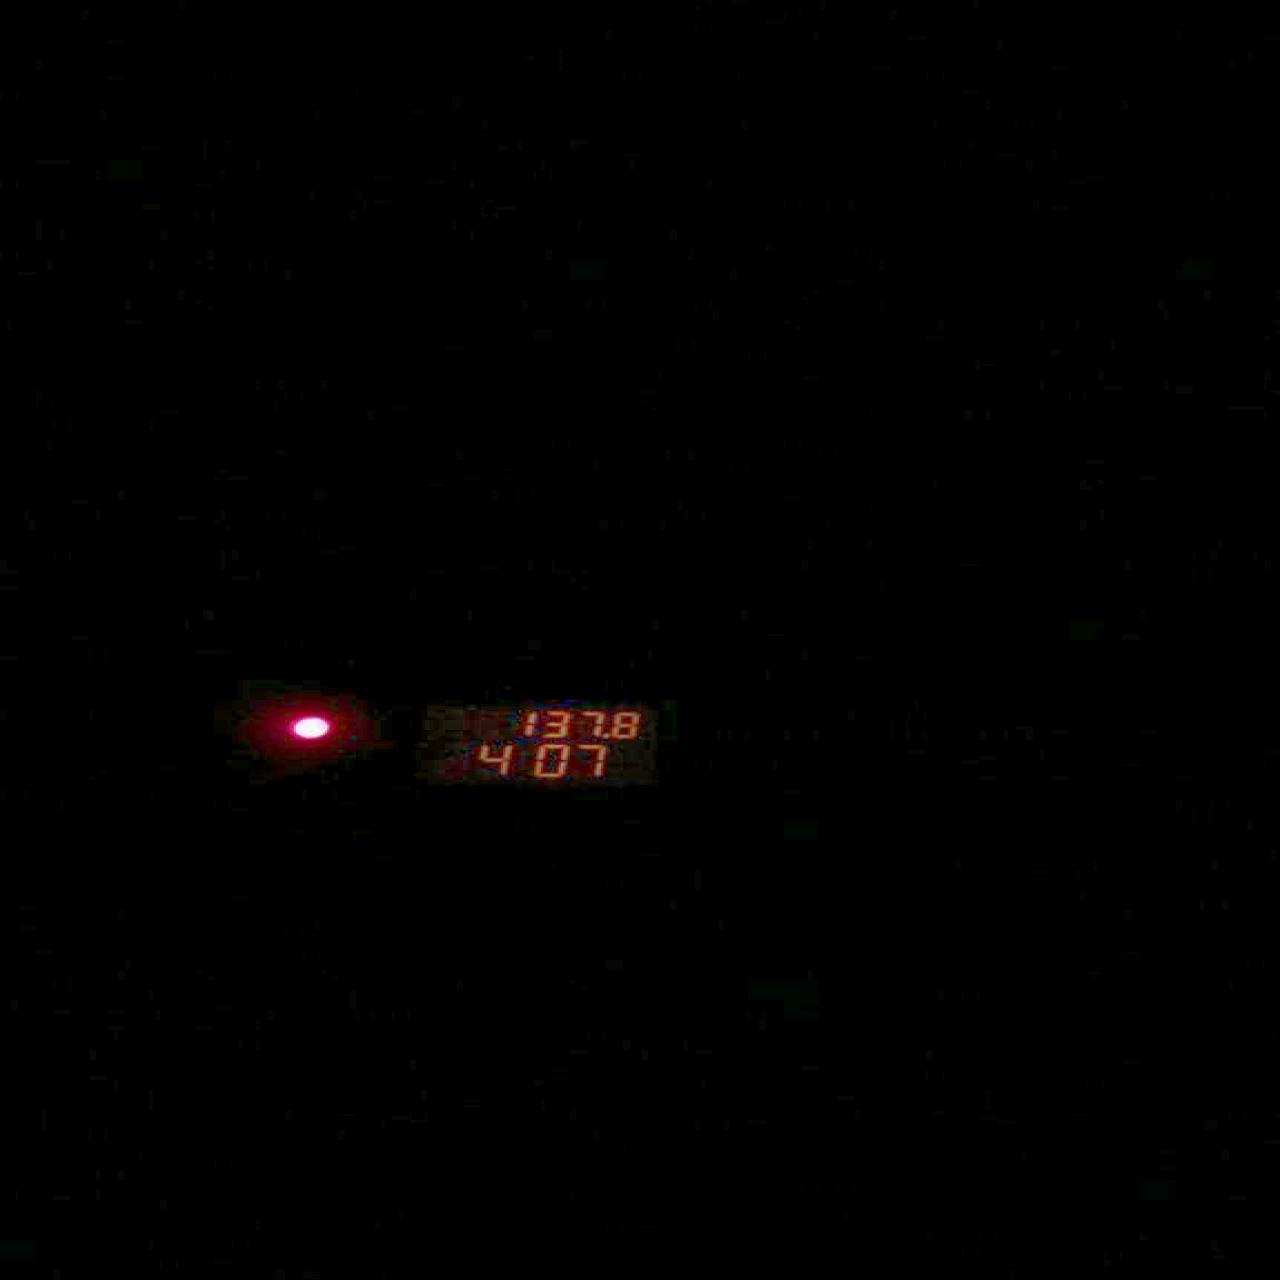-: (604, 733, 610, 738)
0: (530, 742, 570, 777)
1: (516, 710, 539, 735)
3: (542, 708, 570, 737)
4: (474, 743, 515, 775)
7: (574, 742, 607, 776), (579, 708, 604, 737)
8: (610, 709, 639, 738)
odometer: (409, 694, 674, 792)
